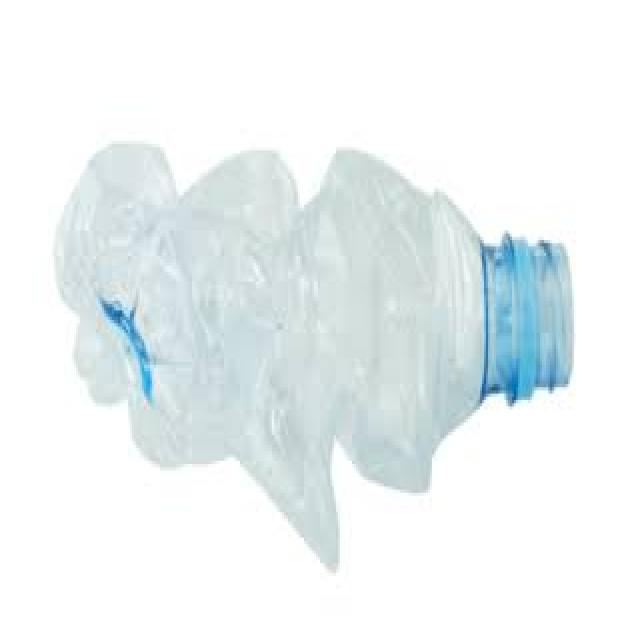plastic: (40, 110, 596, 585)
